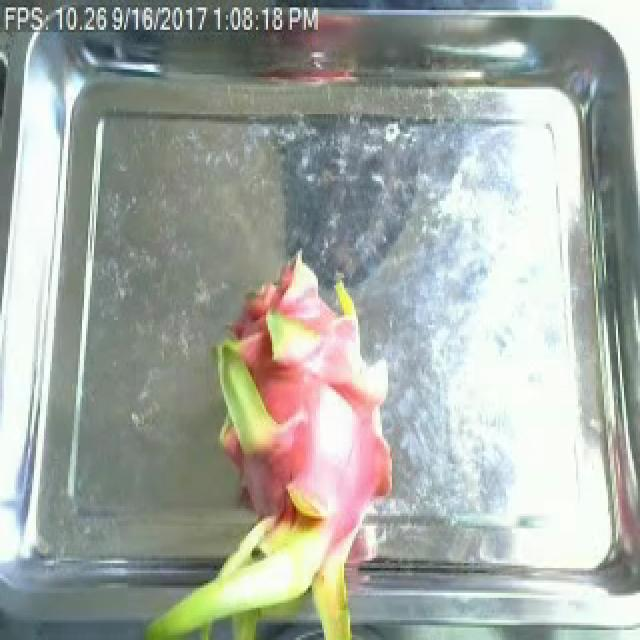fruit: (180, 238, 402, 640)
